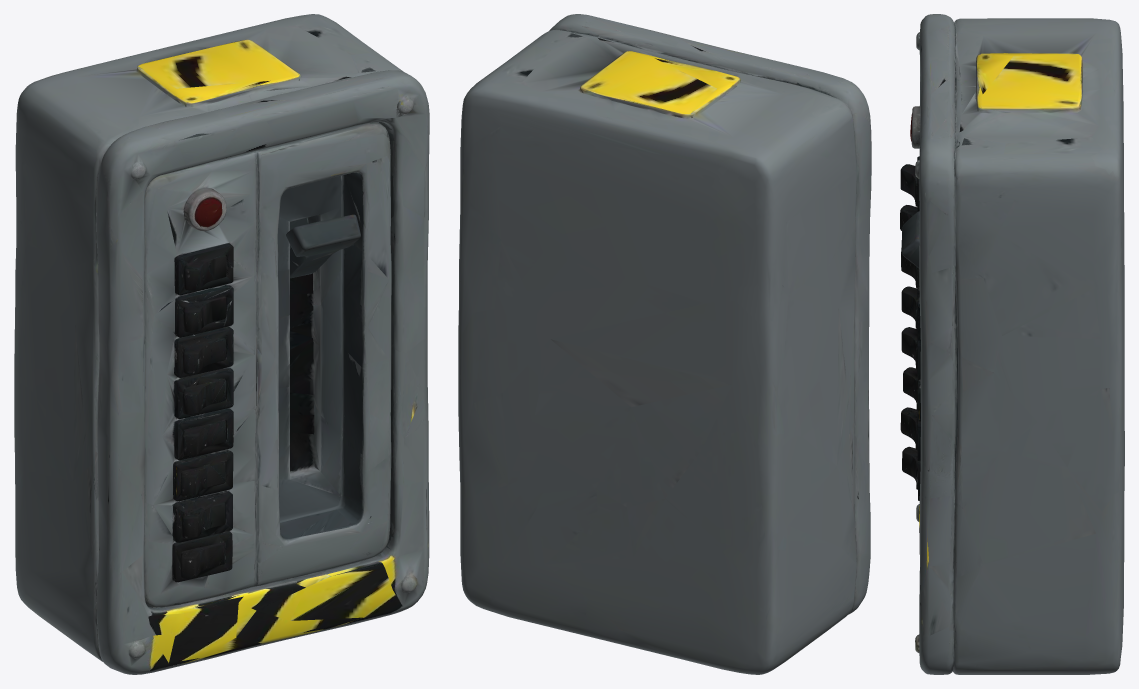
Rendered from breaker.glb.
The picture shows the model from 3 angles, left to right: view 1: azimuth 30°, elevation 25°; view 2: azimuth 150°, elevation 25°; view 3: azimuth 270°, elevation 25°; orthographic projection.
Visible parts, largest first — view 1: Mesh_0; view 2: Mesh_0; view 3: Mesh_0.
Boxes of the visible parts, x1,y1,x2,y2 form: Mesh_0: (14, 14, 429, 674); Mesh_0: (458, 14, 871, 674); Mesh_0: (900, 14, 1124, 674).
Size of the model in its own units: 0.4391 by 0.7 by 0.2687.
Materials: 1 (1 with a texture image).
